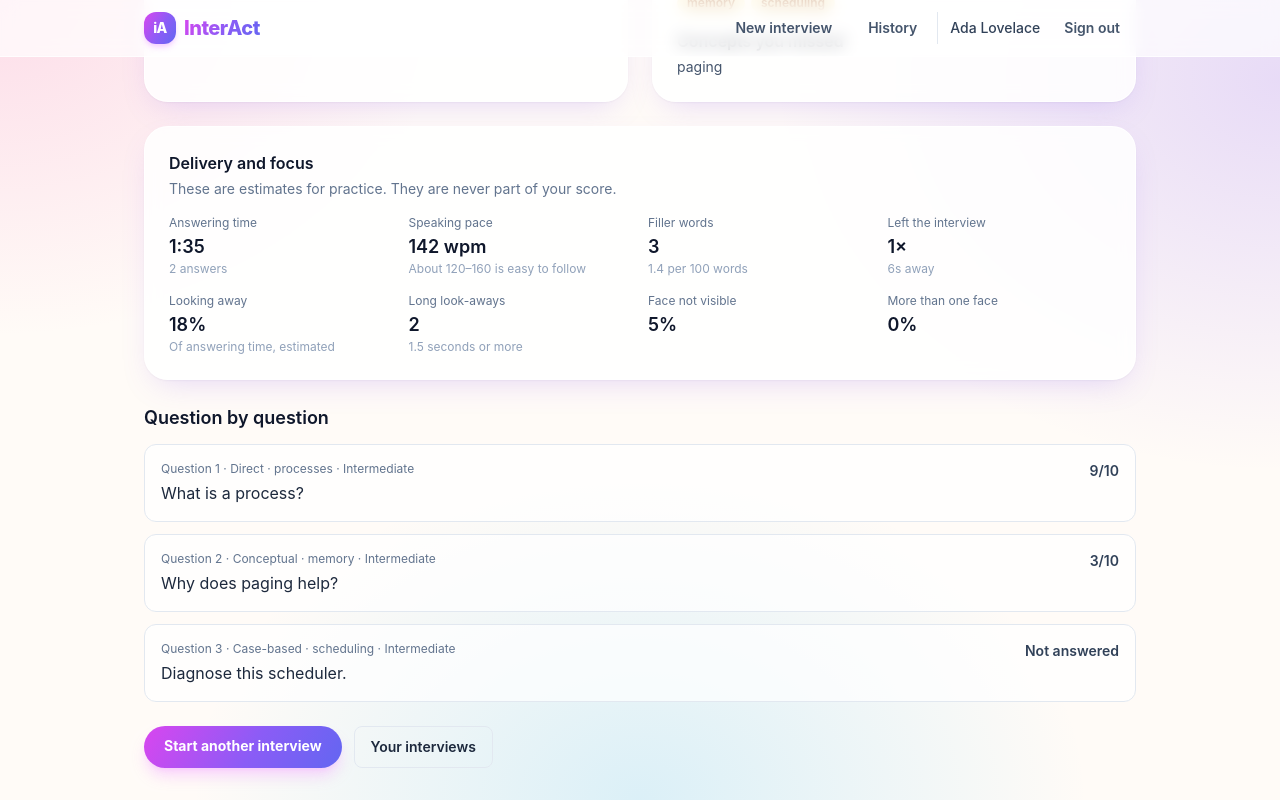
report page › shows the follow-up questions and replies under the answer
The image size is (1280, 800).
(page scrolled)
Click the text "What is a process?": [232, 493] box [161, 483, 304, 503]
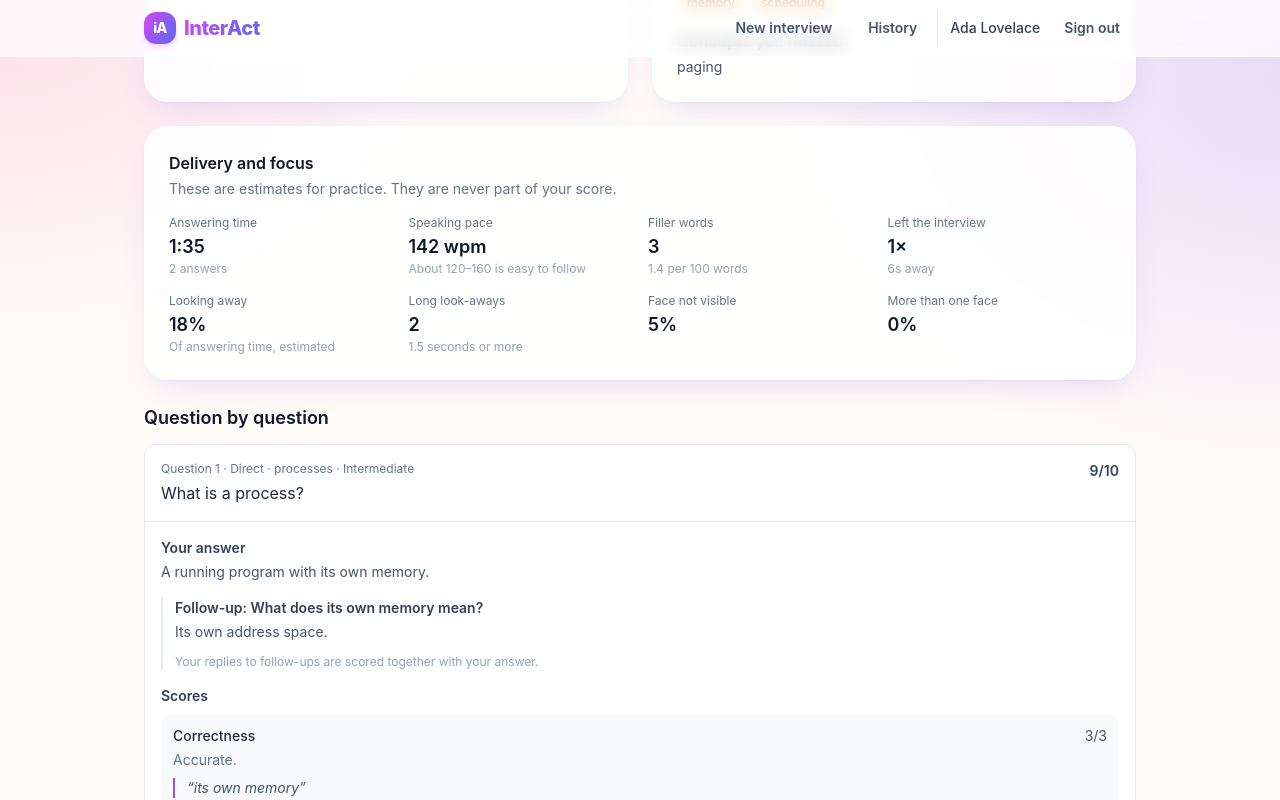
Result: the heading "Follow-up: What does its own memory mean?" is shown at [175, 599, 483, 616]
Result: the text "Its own address space." is shown at [175, 623, 328, 640]
Result: the text "scored together with your answer" is shown at [175, 654, 538, 669]
